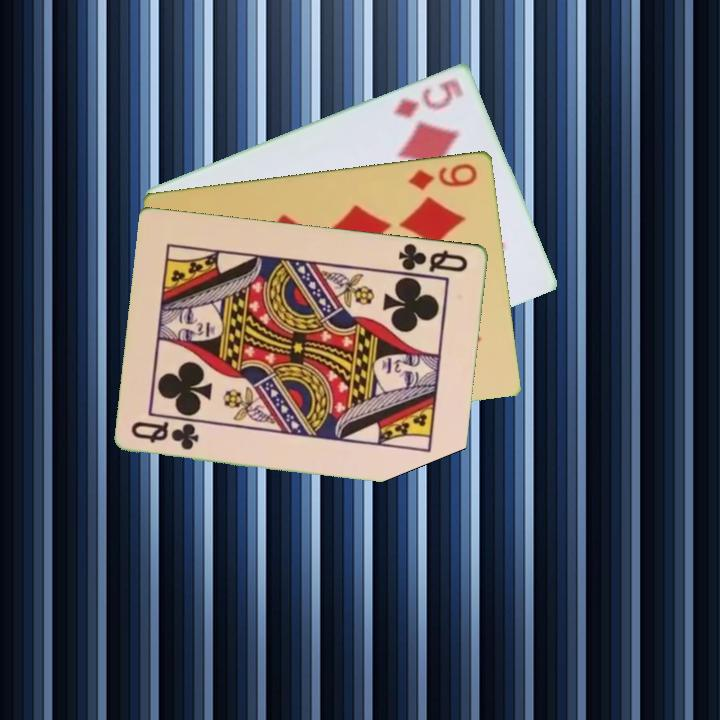5d: (389, 74, 467, 120)
9d: (405, 159, 481, 193)
Qc: (395, 239, 471, 275), (128, 417, 203, 453)
